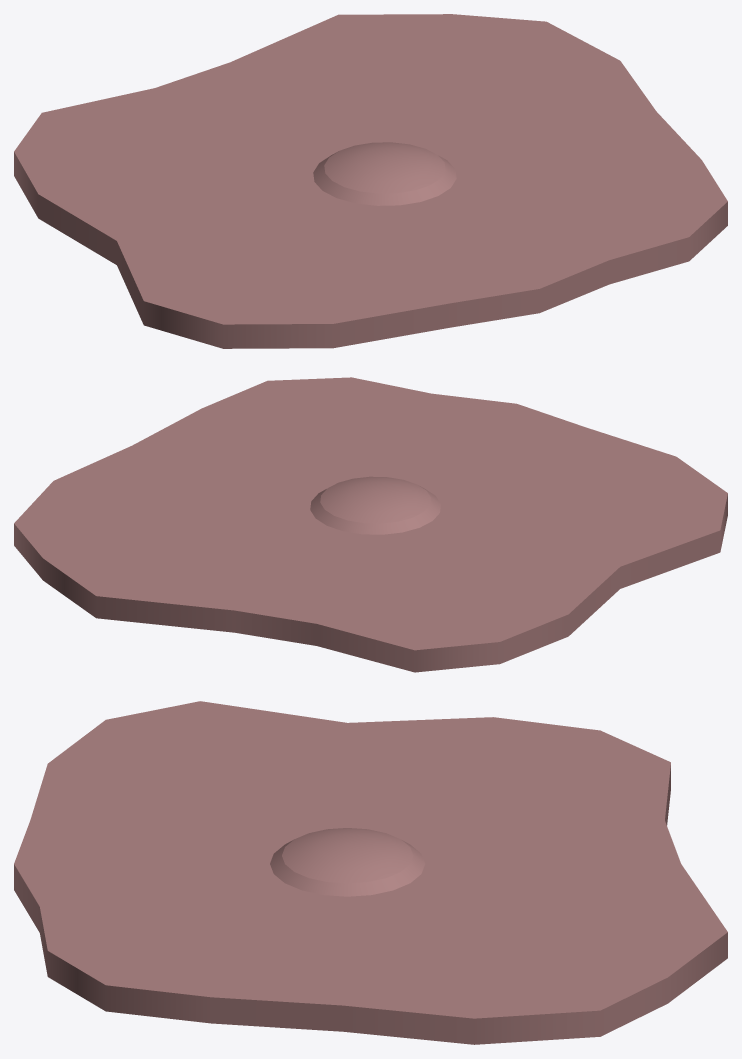
File: egg_001.fbx
3 renders of one model, top to bottom at view 1: azimuth 30°, elevation 25°; view 2: azimuth 150°, elevation 25°; view 3: azimuth 270°, elevation 25°, orthographic. The views are drawn at different scales.
Parts seen in each view (by area): view 1: egg; view 2: egg; view 3: egg.
Boxes of the visible parts, <box> form: egg: <box>14,14,727,348</box>; egg: <box>14,377,727,672</box>; egg: <box>14,701,727,1044</box>.
Size of the model in its own units: 51.96 by 3.5 by 49.38.
